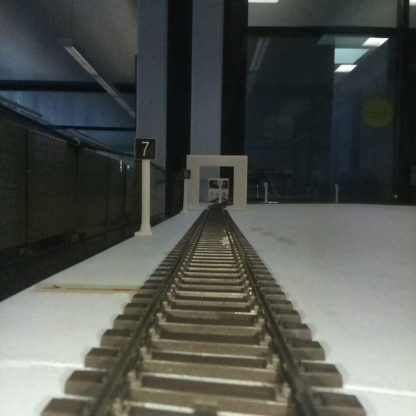black-info-6: (182, 168, 190, 212)
black-info-7: (135, 139, 156, 234)
